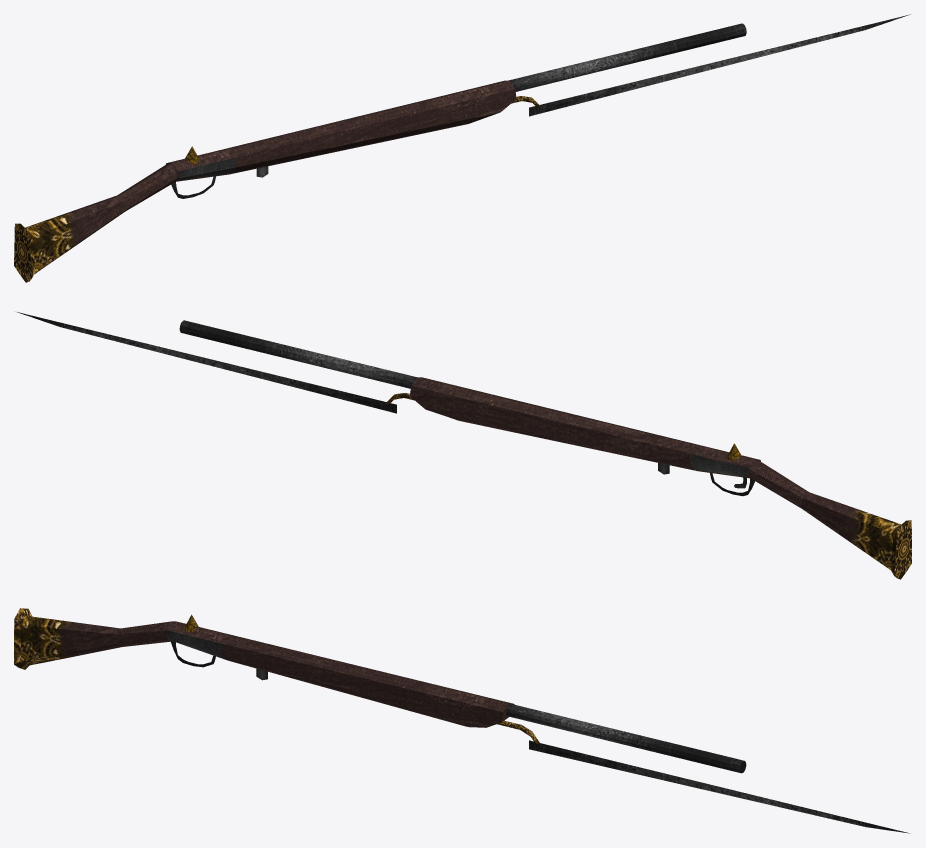
File: Musket_Javelin.glb
The picture shows the model from 3 angles, top to bottom: view 1: azimuth 30°, elevation 25°; view 2: azimuth 150°, elevation 25°; view 3: azimuth 330°, elevation 25°; orthographic projection.
Parts seen in each view (by area): view 1: Cube.001; view 2: Cube.001; view 3: Cube.001.
Part boxes in pixels (x1,y1,x2,y2): Cube.001: [14, 14, 910, 282]; Cube.001: [17, 312, 911, 579]; Cube.001: [14, 608, 910, 833].
Bounding box in the file's own units: 22.25 × 2.29 × 0.7668.
1 material, 1 textured.
